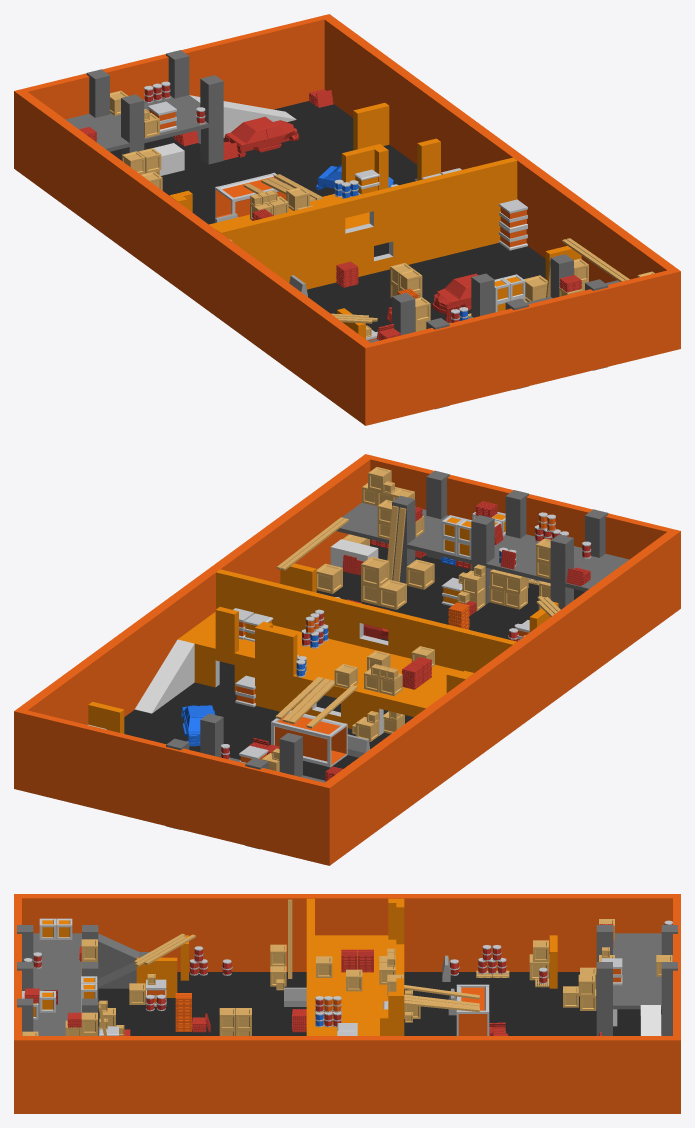
The model's file is Map1.glb.
3 renders of one model, top to bottom at view 1: azimuth 30°, elevation 25°; view 2: azimuth 150°, elevation 25°; view 3: azimuth 270°, elevation 25°, orthographic. The views are drawn at different scales.
Parts seen in each view (by area): view 1: floors, room.001, Plane, Cube.016, Cube.004, Cube.007, Cube.005, obj.004, Cube.012, Cube.006, BigBox.001, Cube.011; view 2: floors, room.001, Cube.004, Plane, Cube.005, Cube.016, Cube.002, obj.004, Cube.017, Cube.035, obj.002, Box.056 (+3 smaller); view 3: floors, Plane, room.001, Cube.016, Cube.004, up2, obj.024, Cube.005, Cube.012, obj.008, obj.028, Cube.036 (+20 smaller).
Boxes of the visible parts, x1=… form: floors: x1=14, y1=14, x2=680, y2=425; room.001: x1=169, y1=138, x2=517, y2=289; Plane: x1=110, y1=101, x2=545, y2=331; Cube.016: x1=65, y1=50, x2=223, y2=164; Cube.004: x1=368, y1=254, x2=619, y2=409; Cube.007: x1=224, y1=116, x2=299, y2=157; Cube.005: x1=215, y1=172, x2=289, y2=218; obj.004: x1=353, y1=103, x2=389, y2=149; Cube.012: x1=189, y1=95, x2=296, y2=143; Cube.006: x1=432, y1=273, x2=478, y2=314; BigBox.001: x1=499, y1=199, x2=527, y2=230; Cube.011: x1=153, y1=143, x2=184, y2=175; floors: x1=14, y1=454, x2=680, y2=865; room.001: x1=178, y1=569, x2=516, y2=735; Cube.004: x1=336, y1=470, x2=629, y2=609; Plane: x1=124, y1=544, x2=584, y2=780; Cube.005: x1=271, y1=710, x2=347, y2=767; Cube.016: x1=166, y1=713, x2=325, y2=849; Cube.002: x1=134, y1=639, x2=194, y2=713; obj.004: x1=88, y1=701, x2=124, y2=733; Cube.017: x1=330, y1=539, x2=378, y2=567; Cube.035: x1=181, y1=705, x2=215, y2=746; obj.002: x1=280, y1=563, x2=316, y2=592; Box.056: x1=361, y1=556, x2=389, y2=586; floors: x1=14, y1=894, x2=680, y2=1113; Plane: x1=98, y1=972, x2=661, y2=1035; room.001: x1=306, y1=898, x2=404, y2=1035; Cube.016: x1=596, y1=925, x2=677, y2=1035; Cube.004: x1=17, y1=925, x2=98, y2=1035; up2: x1=98, y1=933, x2=149, y2=988; obj.024: x1=136, y1=957, x2=177, y2=997; Cube.005: x1=456, y1=984, x2=489, y2=1035; Cube.012: x1=640, y1=1005, x2=661, y2=1035; obj.008: x1=458, y1=1014, x2=487, y2=1035; obj.028: x1=549, y1=935, x2=557, y2=988; Cube.036: x1=284, y1=987, x2=306, y2=1006.
Bounding box in the file's own units: 34 × 8.4 × 65.6.
